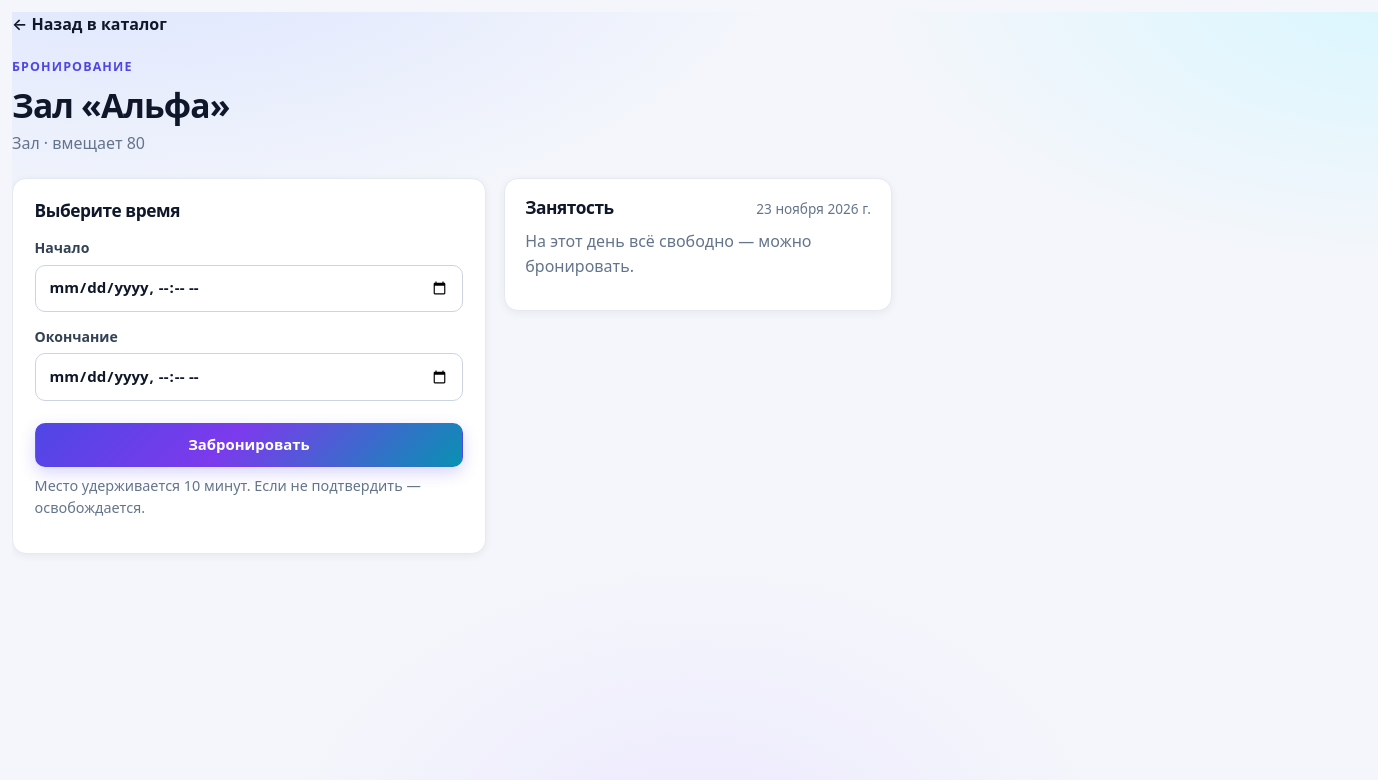
Book › валидирует порядок времени
The image size is (1378, 780).
Expected: the heading "Зал «Альфа»" is shown, [12,86,230,125]
Type "2030-01-15T12:00" into the field labelled "Начало" at (249, 288), box [35,264,463,312]
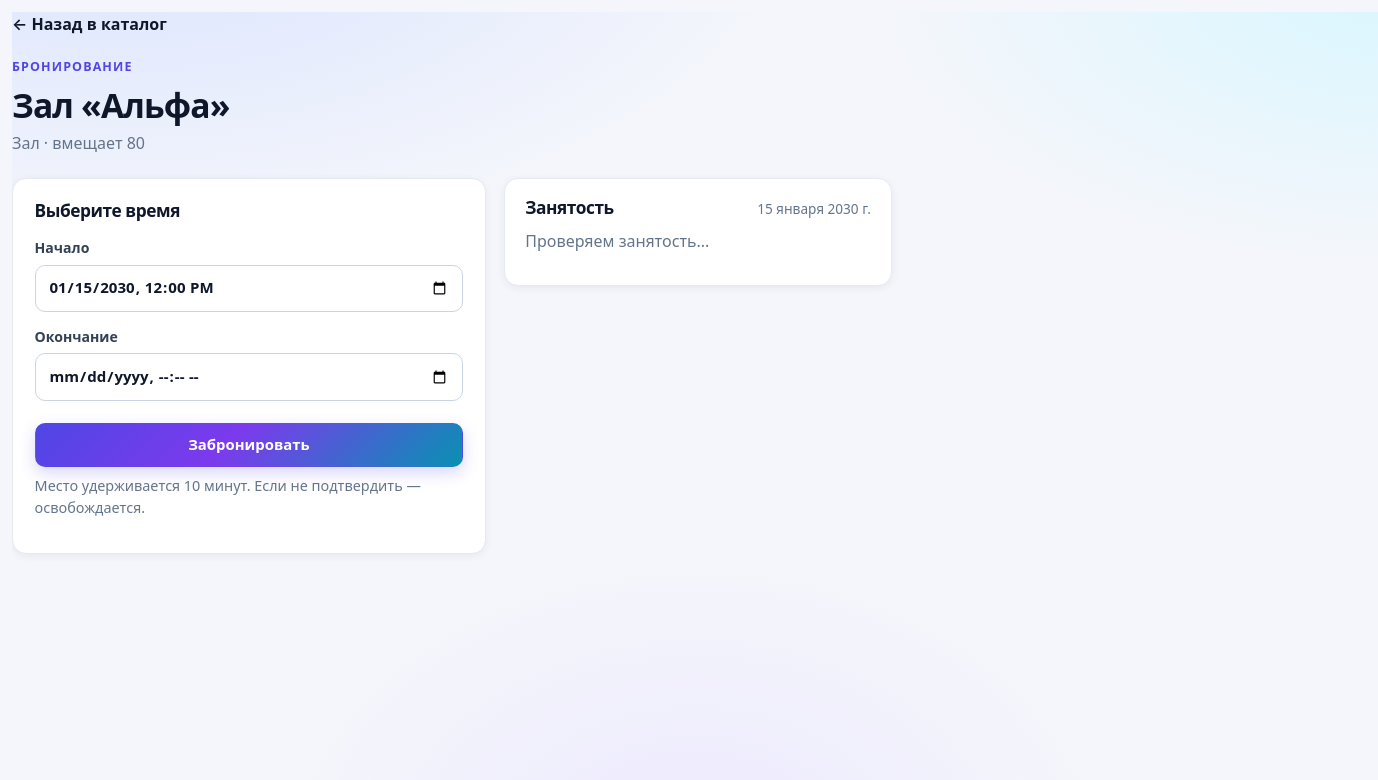
Type "2030-01-15T10:00" into the field labelled "Окончание" at (249, 377), box [35,354,463,401]
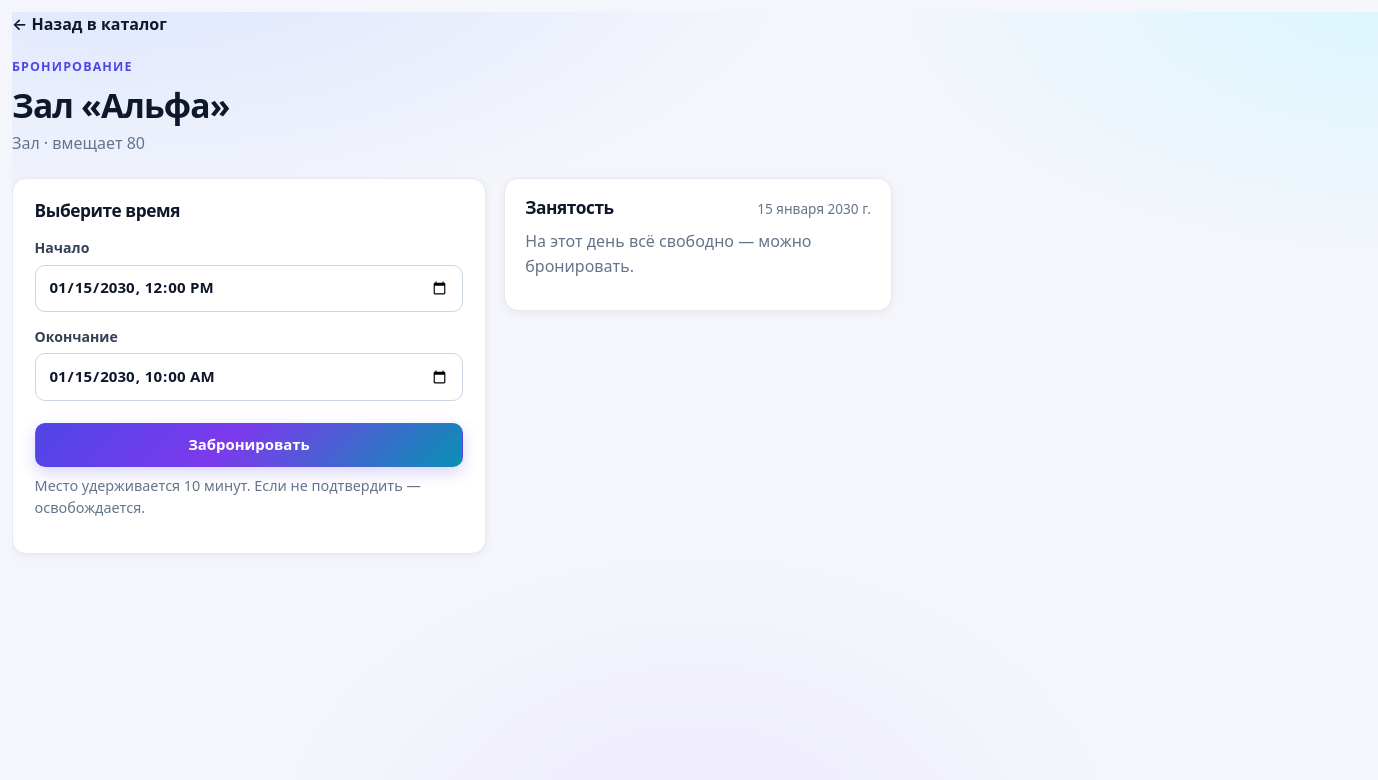
Click the button "Забронировать" at (249, 445), box [35,423,463,467]
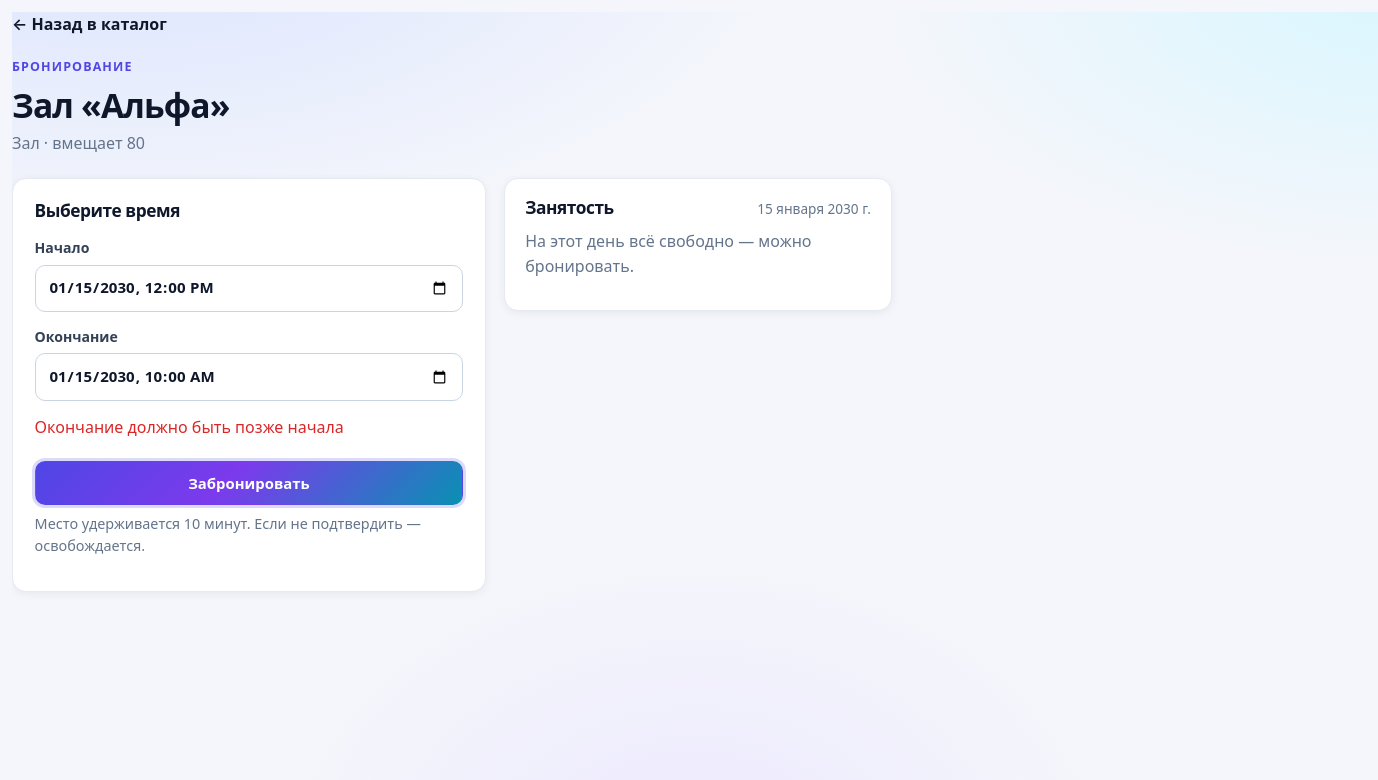
Now the text "Окончание должно быть позже начала" is shown, box [35,416,344,438]
